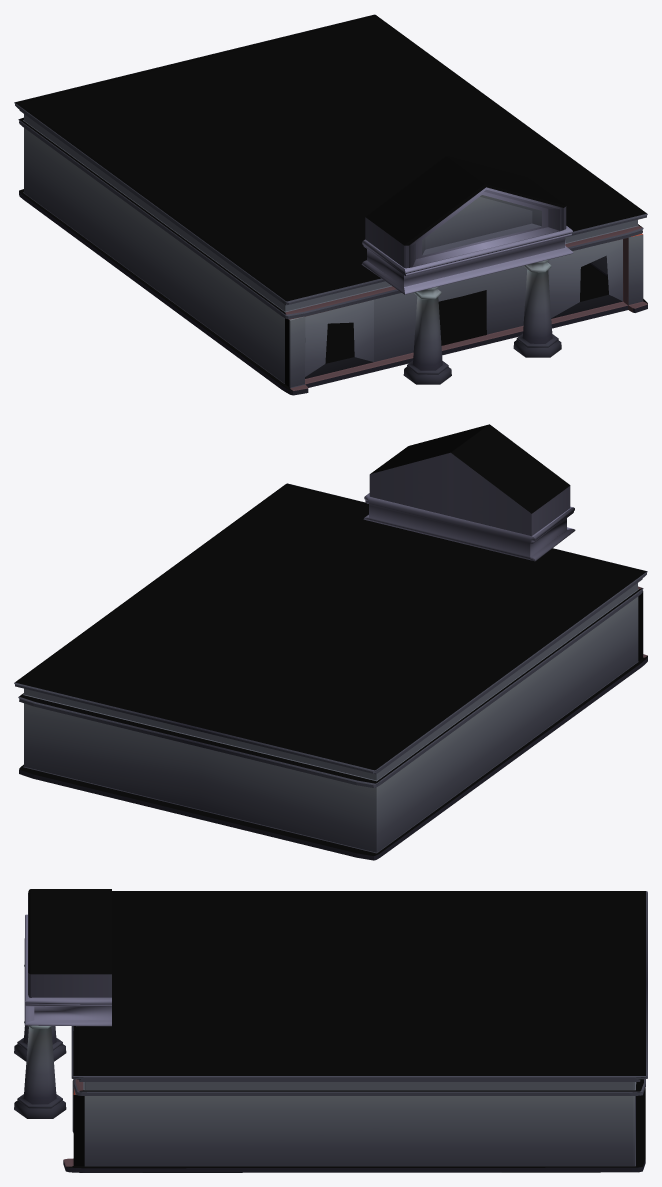
File: Syndicate_books.glb
3 views of the same model, one above another, from view 1: azimuth 30°, elevation 25°; view 2: azimuth 150°, elevation 25°; view 3: azimuth 270°, elevation 25° (orthographic). The views are drawn at different scales.
Visible parts, largest first — view 1: Lib-col, Tri-Pillar, Pillar-col, Stand-Above-Pillar-imp; view 2: Lib-col, Tri-Pillar, Stand-Above-Pillar-imp; view 3: Lib-col, Tri-Pillar, Pillar-col, Stand-Above-Pillar-imp.
Boxes of the visible parts, x1=… form: Lib-col: x1=14, y1=14, x2=647, y2=395; Tri-Pillar: x1=365, y1=156, x2=566, y2=268; Pillar-col: x1=403, y1=259, x2=561, y2=384; Stand-Above-Pillar-imp: x1=361, y1=226, x2=573, y2=294; Lib-col: x1=14, y1=483, x2=647, y2=860; Tri-Pillar: x1=369, y1=424, x2=570, y2=536; Stand-Above-Pillar-imp: x1=363, y1=493, x2=575, y2=561; Lib-col: x1=63, y1=891, x2=647, y2=1172; Tri-Pillar: x1=28, y1=889, x2=111, y2=997; Pillar-col: x1=14, y1=965, x2=66, y2=1118; Stand-Above-Pillar-imp: x1=24, y1=914, x2=111, y2=1026.
Size of the model in its own units: 20.26 by 9.73 by 29.19.
Materials: 1 (1 with a texture image).
